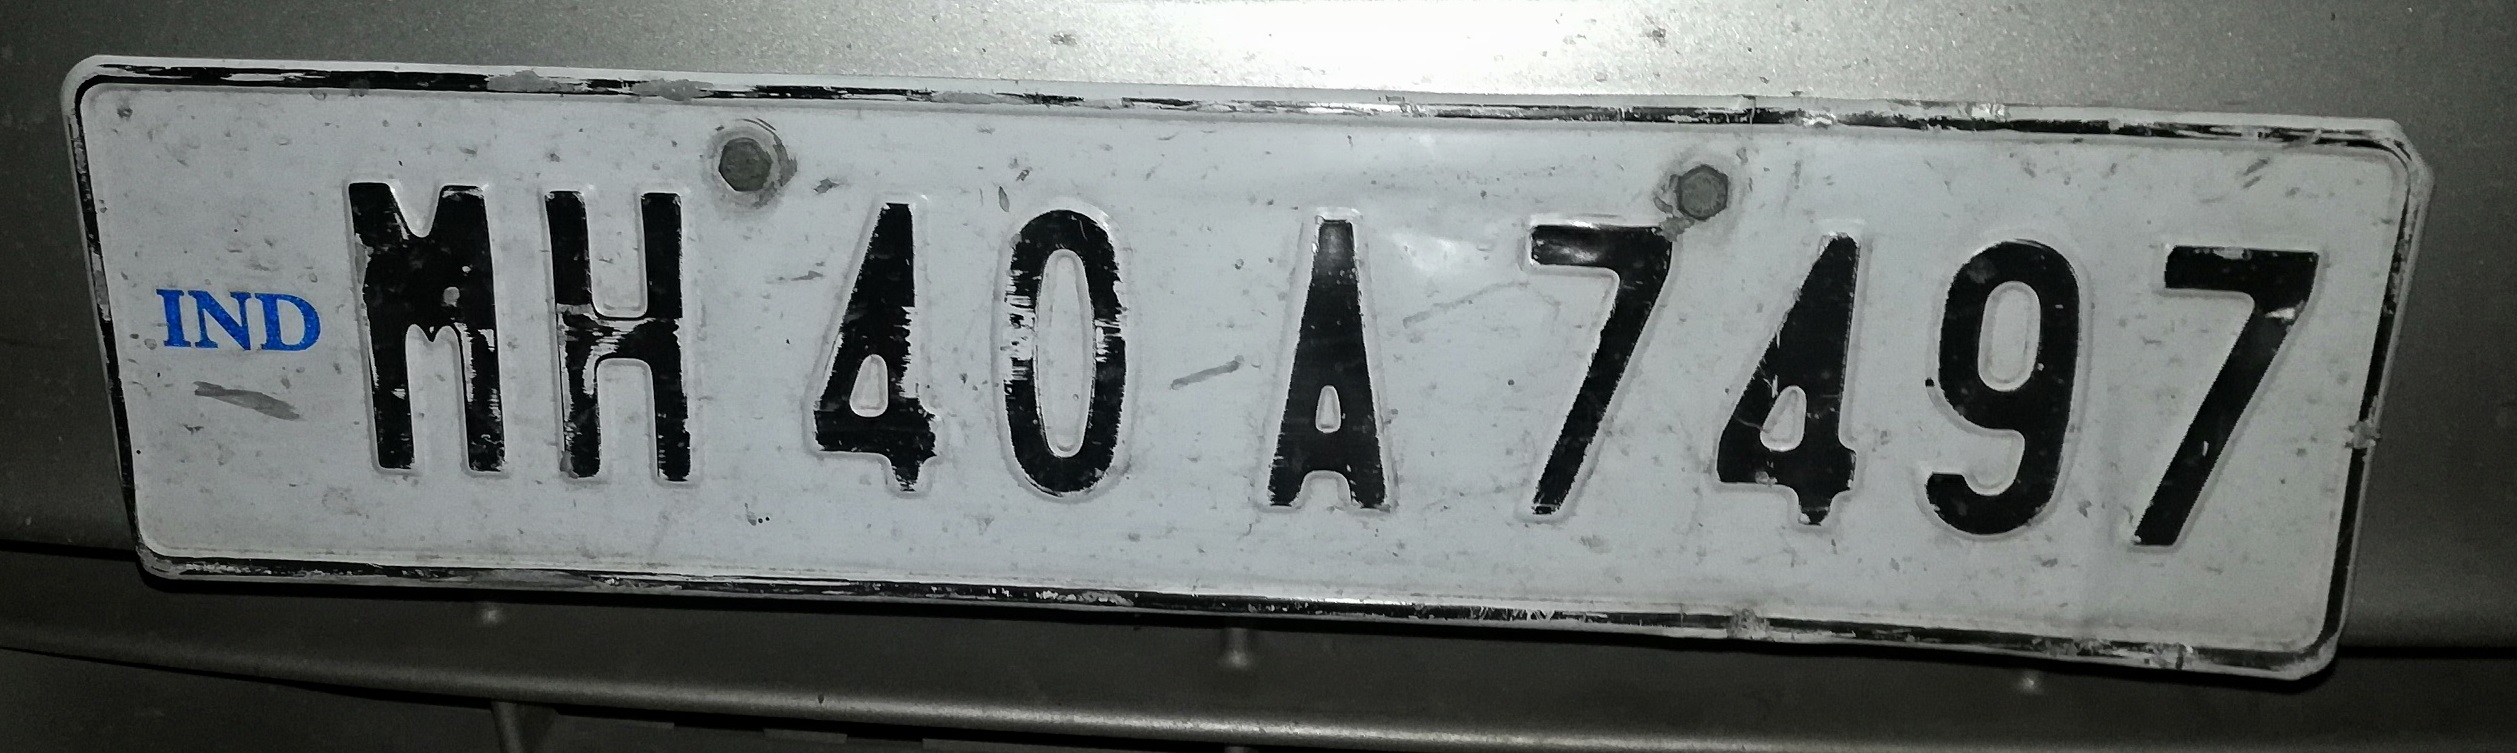numberplate: (50, 48, 2433, 698)
